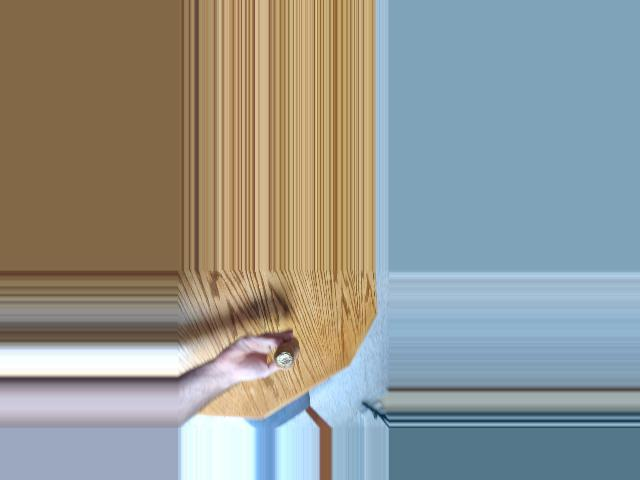sweet_potato: (265, 335, 303, 374)
